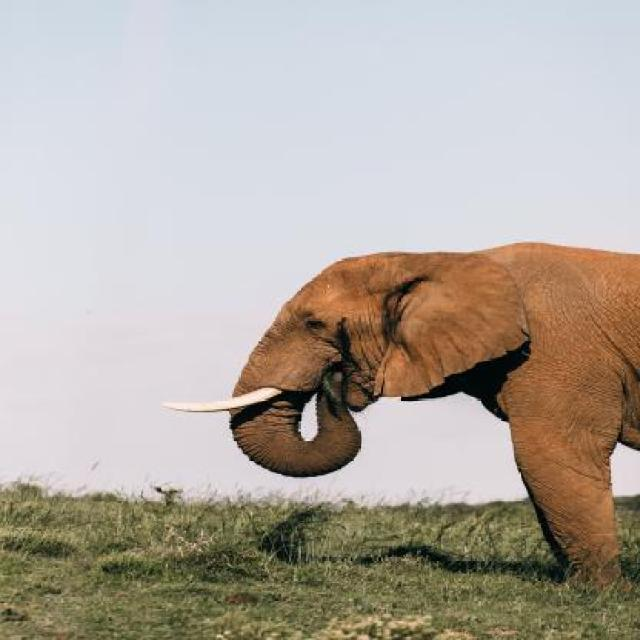Elephant: (154, 212, 638, 597)
